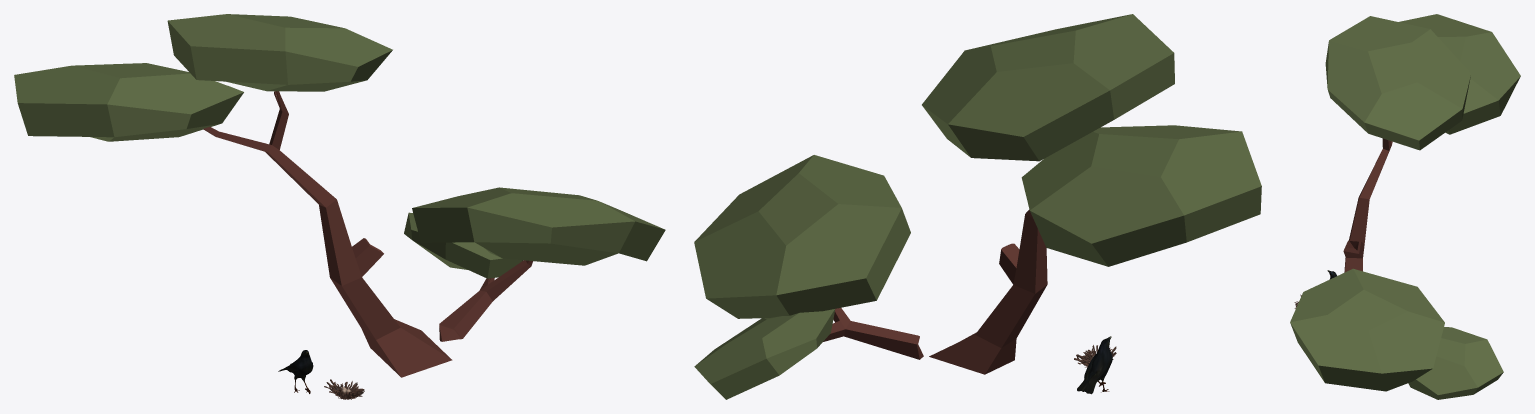
Rendered from bird_not_fixed.FBX.
The picture shows the model from 3 angles, left to right: view 1: azimuth 30°, elevation 25°; view 2: azimuth 150°, elevation 25°; view 3: azimuth 270°, elevation 25°; orthographic projection. The views are drawn at different scales.
Visible parts, largest first — view 1: tree, branch, magpie; view 2: tree, branch, magpie; view 3: tree, branch.
Boxes of the visible parts, box(x1,y1,x2,y2) form: tree: box(14, 14, 452, 377); branch: box(404, 187, 665, 341); magpie: box(278, 350, 313, 393); tree: box(922, 14, 1261, 374); branch: box(694, 155, 923, 399); magpie: box(1077, 336, 1112, 394); tree: box(1325, 14, 1520, 272); branch: box(1290, 268, 1503, 399).
Bounding box in the file's own units: 242 × 144 × 117.
